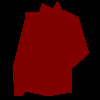abbigliamento_uomo: (12, 0, 89, 96)
